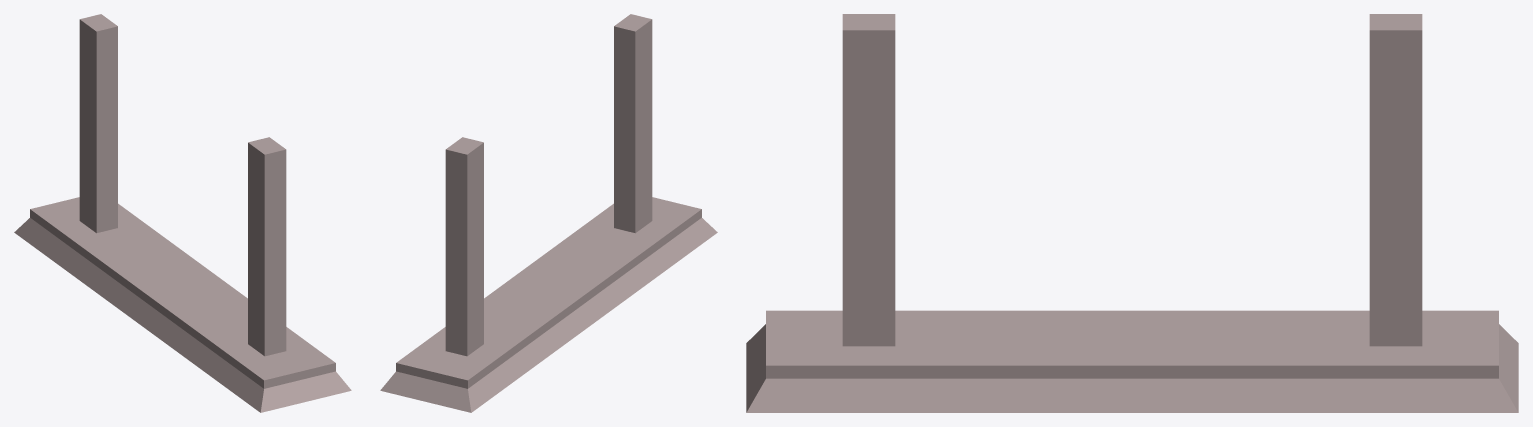
File: LightLamp.fbx
The picture shows the model from 3 angles, left to right: view 1: azimuth 30°, elevation 25°; view 2: azimuth 150°, elevation 25°; view 3: azimuth 270°, elevation 25°; orthographic projection. The views are drawn at different scales.
Parts seen in each view (by area): view 1: Cube; view 2: Cube; view 3: Cube.
Part boxes in pixels (left/top/right/bottom): Cube: left=14, top=14, right=351, bottom=412; Cube: left=380, top=14, right=717, bottom=412; Cube: left=746, top=14, right=1518, bottom=412.
Size of the model in its own units: 23.6 by 56.15 by 110.
